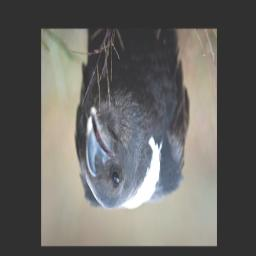Crow: (74, 34, 188, 212)
